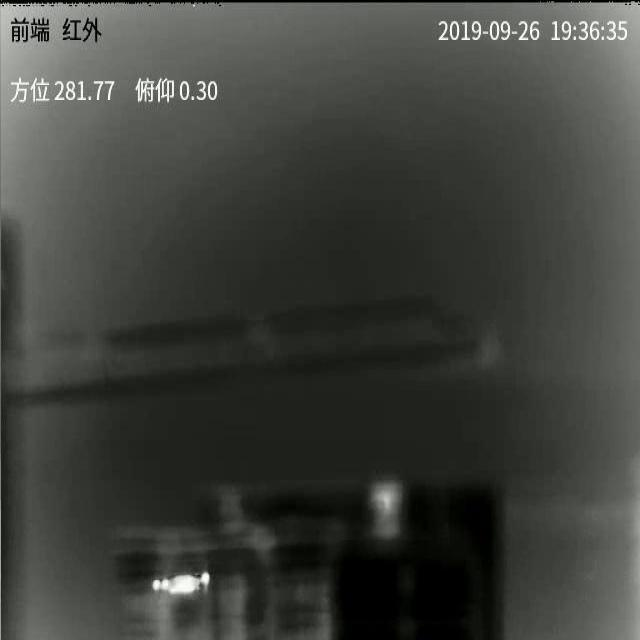drone: (151, 572, 211, 595)
